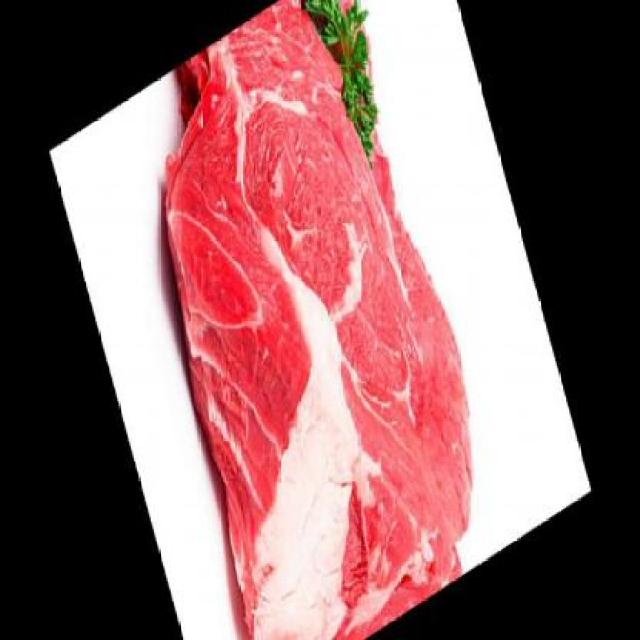beef: (102, 0, 517, 638)
